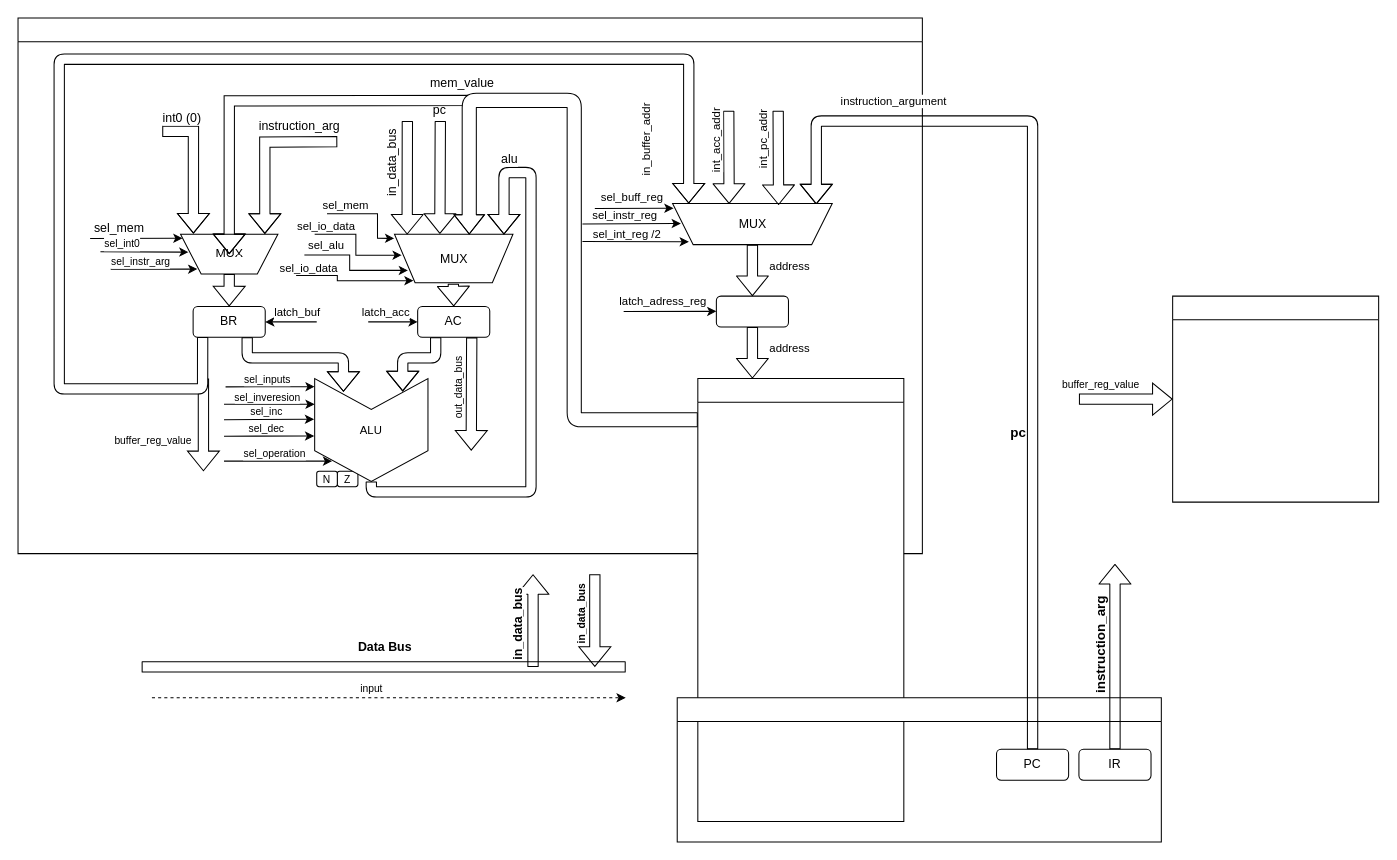
The diagram is 1397 pixels wide and 860 high, and some of its shapes have lost their labels. Here are the shapes that lost their labels. From the top down, the box of each, then its label:
(17, 17, 922, 554): Data Path
(715, 295, 788, 327): AR
(1172, 295, 1379, 502): IO Controller
(697, 377, 904, 821): Memory
(676, 697, 1161, 842): Control Unit
